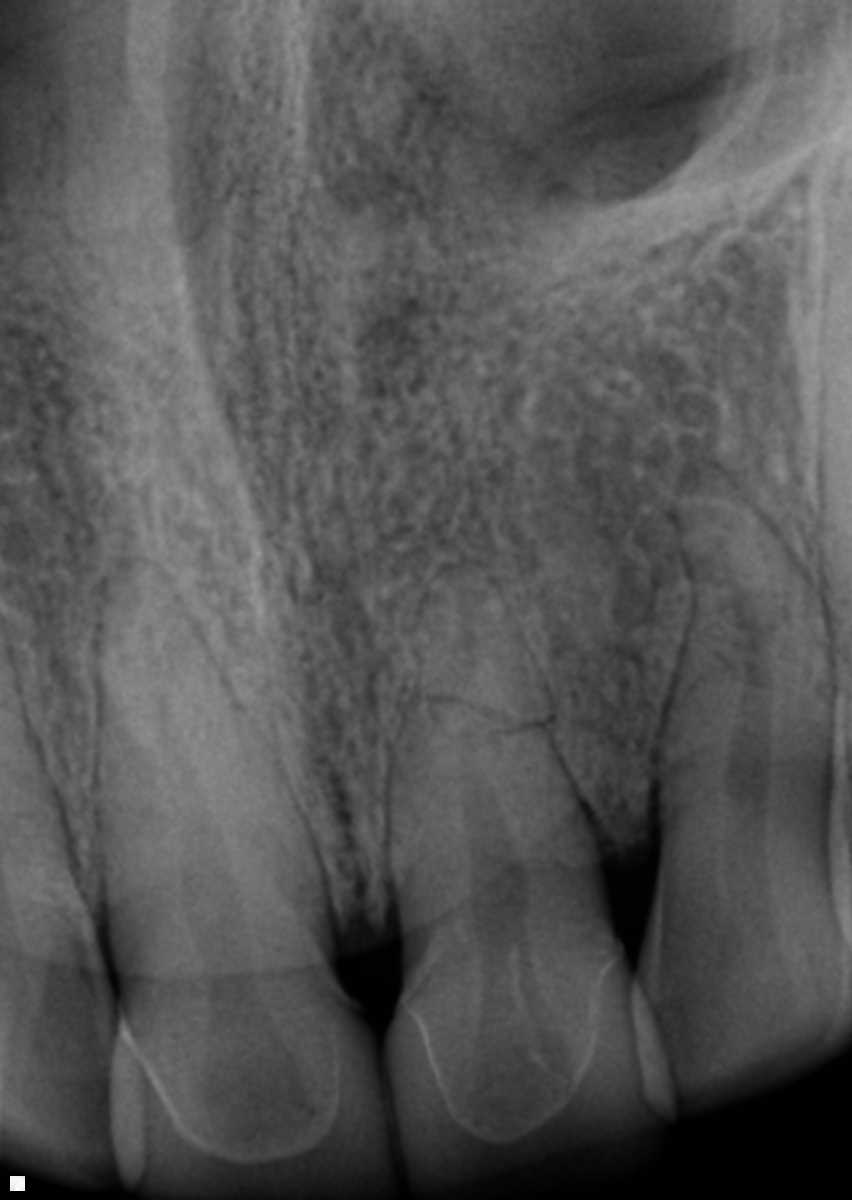Main Canal: (695, 523, 773, 821), (163, 710, 246, 938), (457, 733, 522, 897)
Main Root: (88, 556, 332, 943), (372, 567, 589, 940), (656, 469, 842, 832), (0, 648, 84, 929)
